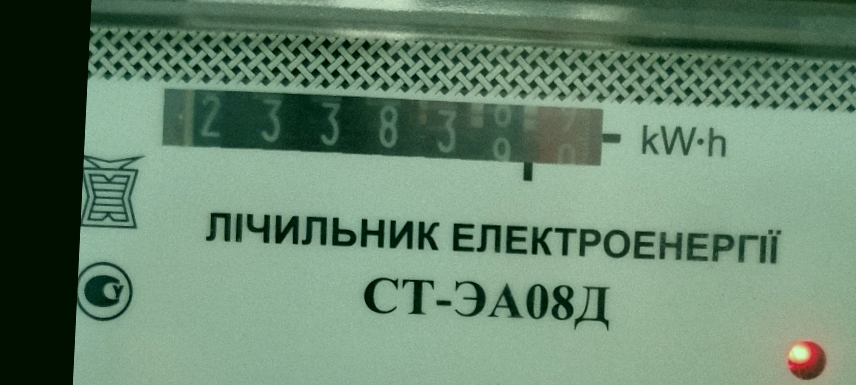0: (554, 140, 578, 167)
2: (197, 92, 223, 140)
3: (313, 97, 344, 148), (255, 93, 285, 144), (432, 106, 458, 153)
8: (372, 102, 401, 149), (489, 101, 514, 129)
9: (555, 103, 578, 134), (489, 133, 511, 163)
screen: (148, 76, 624, 189)
